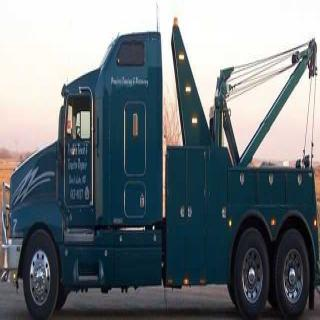Towing_truck: (2, 13, 318, 316)
